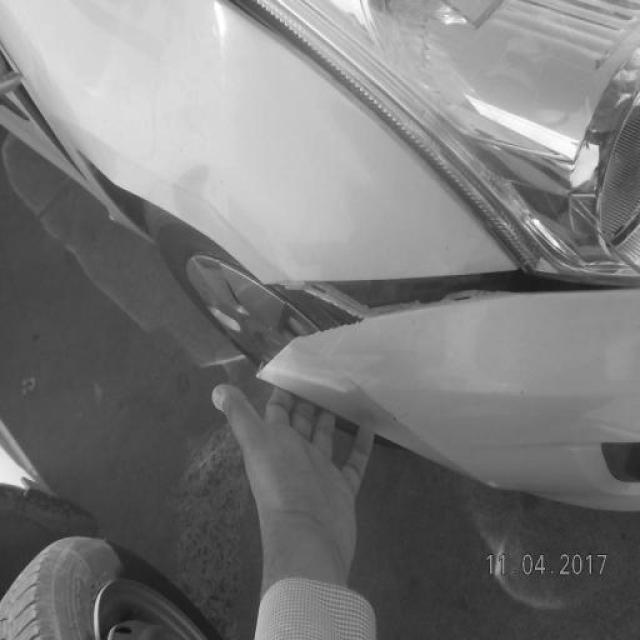tear: (255, 270, 616, 378)
